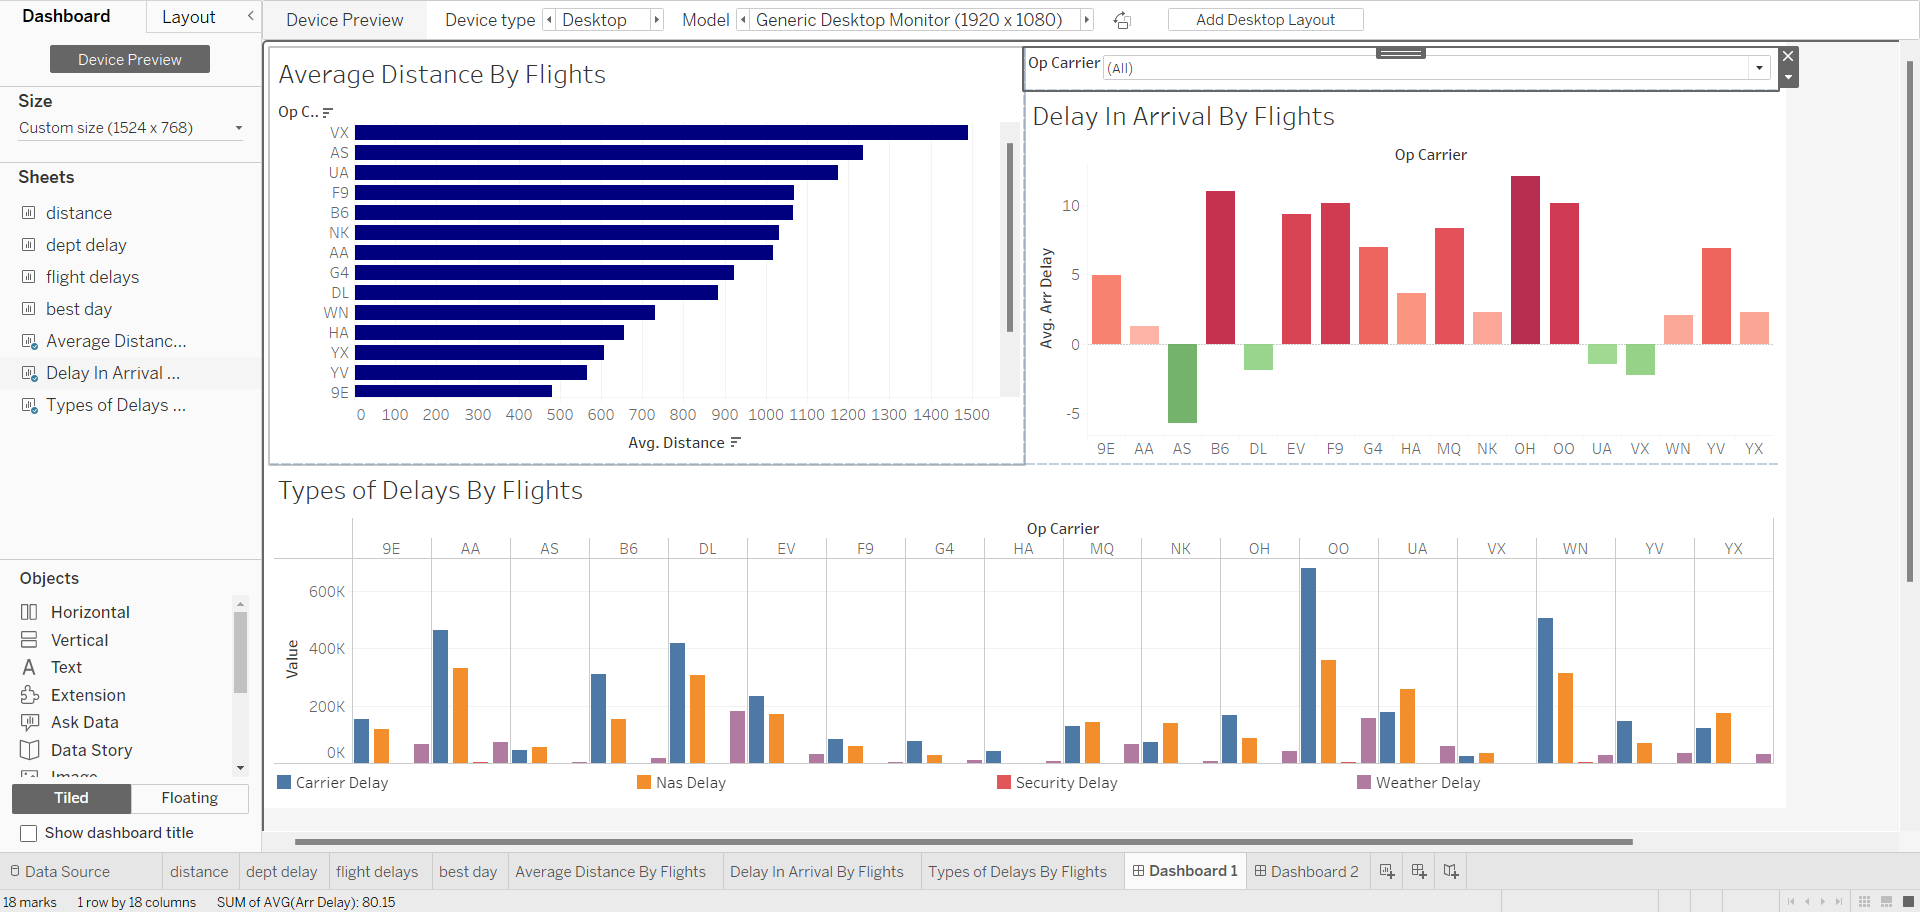

This screenshot's page, from the dashboard's own definition file:
{"tool":"tableau","page":{"name":"Dashboard 1","canvas":[1524,768],"ordinal":0},"visuals":[{"type":"worksheet","title":"Average Distance By Flights","mark":"Automatic","rows":["OP_CARRIER"],"cols":["DISTANCE"],"box":[8,8,754,416.5]},{"type":"filter","title":"Delay In Arrival By Flights","param":"[federated.1bs2ujq0f91gqa1drwedv02xf1vz].[none:OP_CARRIER:nk]","box":[762,8,754,42]},{"type":"worksheet","title":"Delay In Arrival By Flights","mark":"Automatic","rows":["ARR_DELAY"],"cols":["OP_CARRIER"],"box":[762,50,754,374.5]},{"type":"worksheet","title":"Types of Delays By Flights","mark":"Automatic","cols":["OP_CARRIER"],"box":[8,424.5,1508,303.5]},{"type":"legend","title":"Types of Delays By Flights","param":"[federated.1bs2ujq0f91gqa1drwedv02xf1vz].[:Measure Names]","box":[8,728,1508,29]}]}

Visuals, with their boxes on the page's 1524x768 design canvas (x1, y1, x2, y2). These are canvas units, not pixel positions in the 1920x912 screenshot, which may show the page scaled, cropped or inside an application window:
"Average Distance By Flights" worksheet: left=8, top=8, right=762, bottom=424
"Delay In Arrival By Flights" filter: left=762, top=8, right=1516, bottom=50
"Delay In Arrival By Flights" worksheet: left=762, top=50, right=1516, bottom=424
"Types of Delays By Flights" worksheet: left=8, top=424, right=1516, bottom=728
"Types of Delays By Flights" legend: left=8, top=728, right=1516, bottom=757
